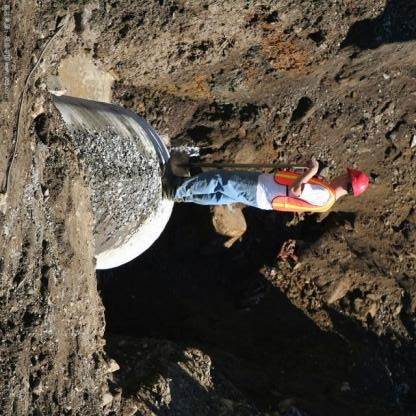red: (344, 162, 372, 199)
vest: (268, 165, 337, 217)
